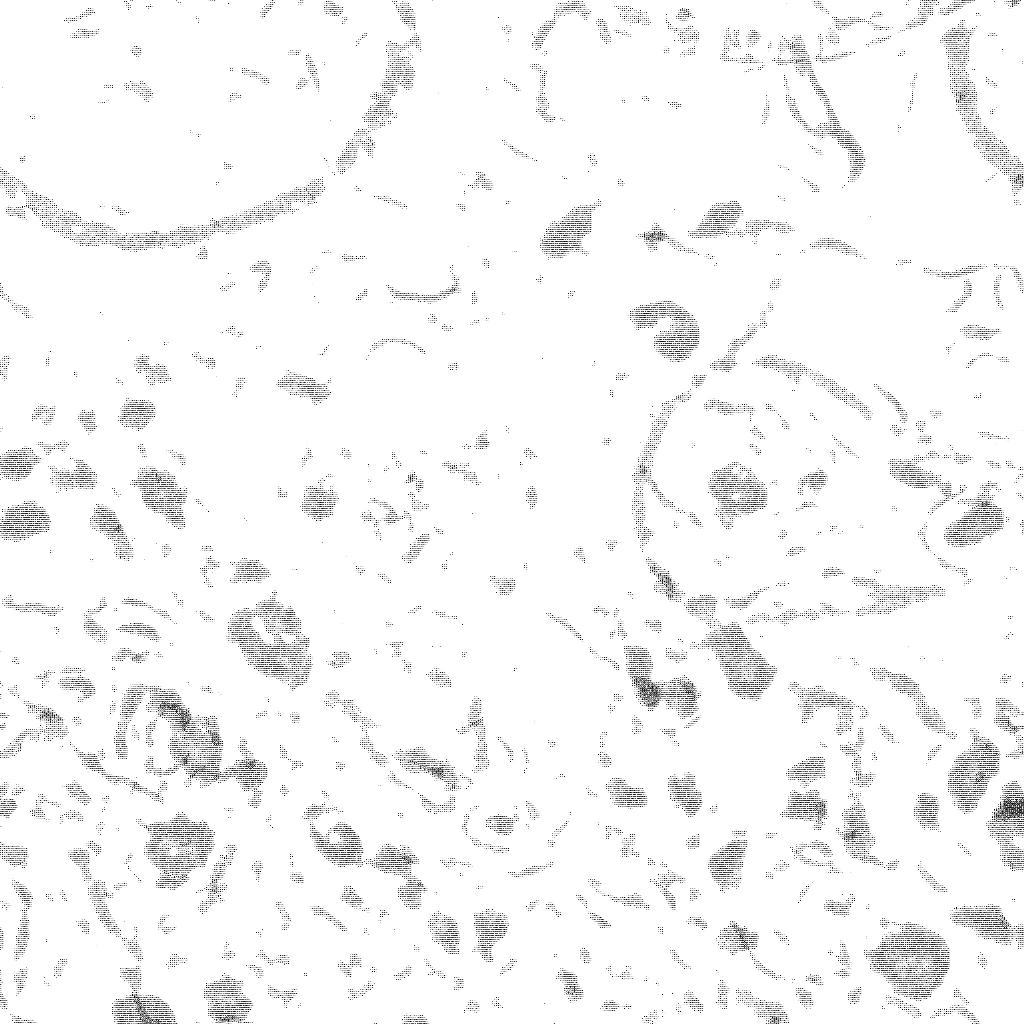axone: (221, 591, 313, 697), (145, 681, 223, 799), (864, 916, 953, 1007), (696, 618, 784, 707), (133, 812, 218, 895), (626, 297, 713, 366), (945, 721, 1005, 820), (705, 454, 772, 530), (128, 457, 193, 534), (937, 490, 1009, 556), (537, 197, 604, 262), (943, 899, 1015, 958), (882, 449, 964, 500), (81, 497, 137, 566), (685, 191, 747, 247), (709, 827, 754, 902), (661, 765, 711, 827), (198, 974, 259, 1024), (1, 496, 56, 545), (470, 901, 508, 968), (661, 669, 707, 722), (1, 443, 42, 485)
